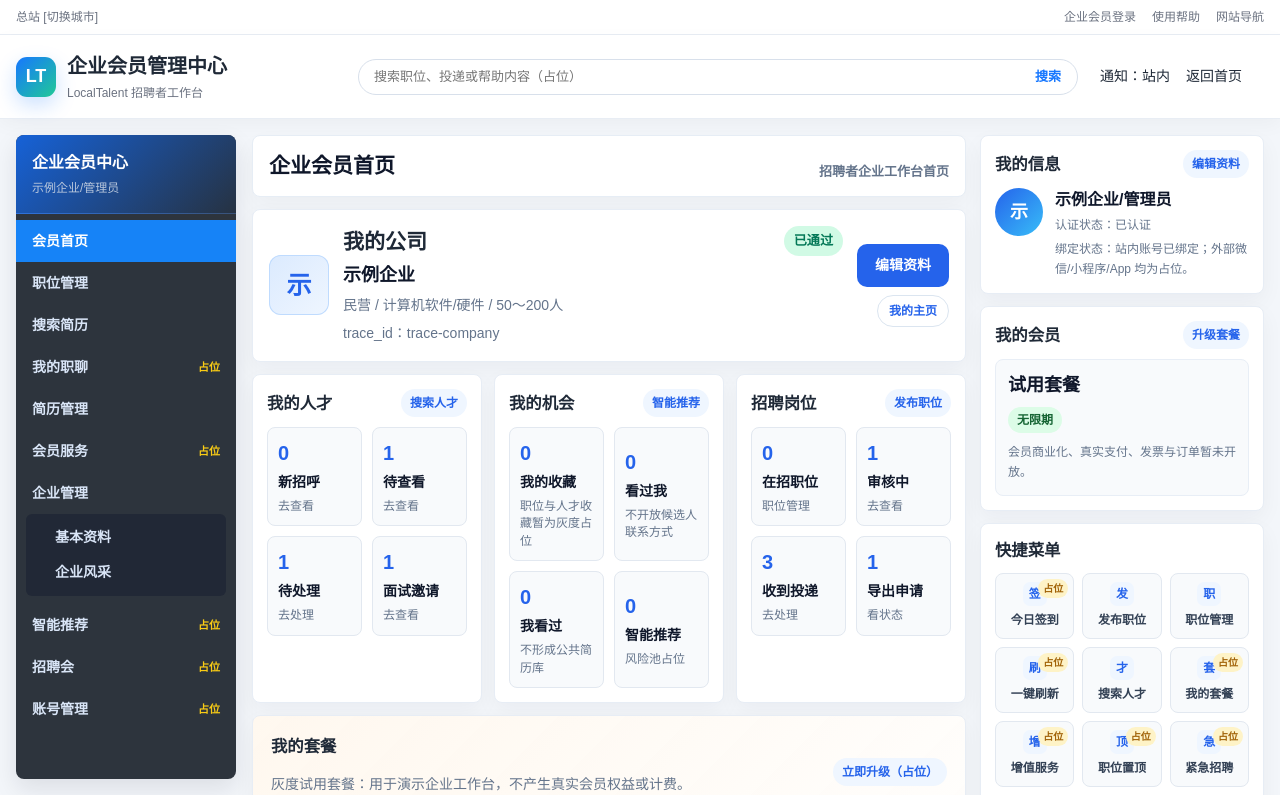
it: CompanyDashboard › renders company workbench modules without leaking sensitive fields
Expected: the heading "企业会员首页" is shown, top-left (269, 150), bottom-right (395, 182)
Click the button "职位管理". click: click(126, 283)
box: top-left (16, 262), bottom-right (236, 304)
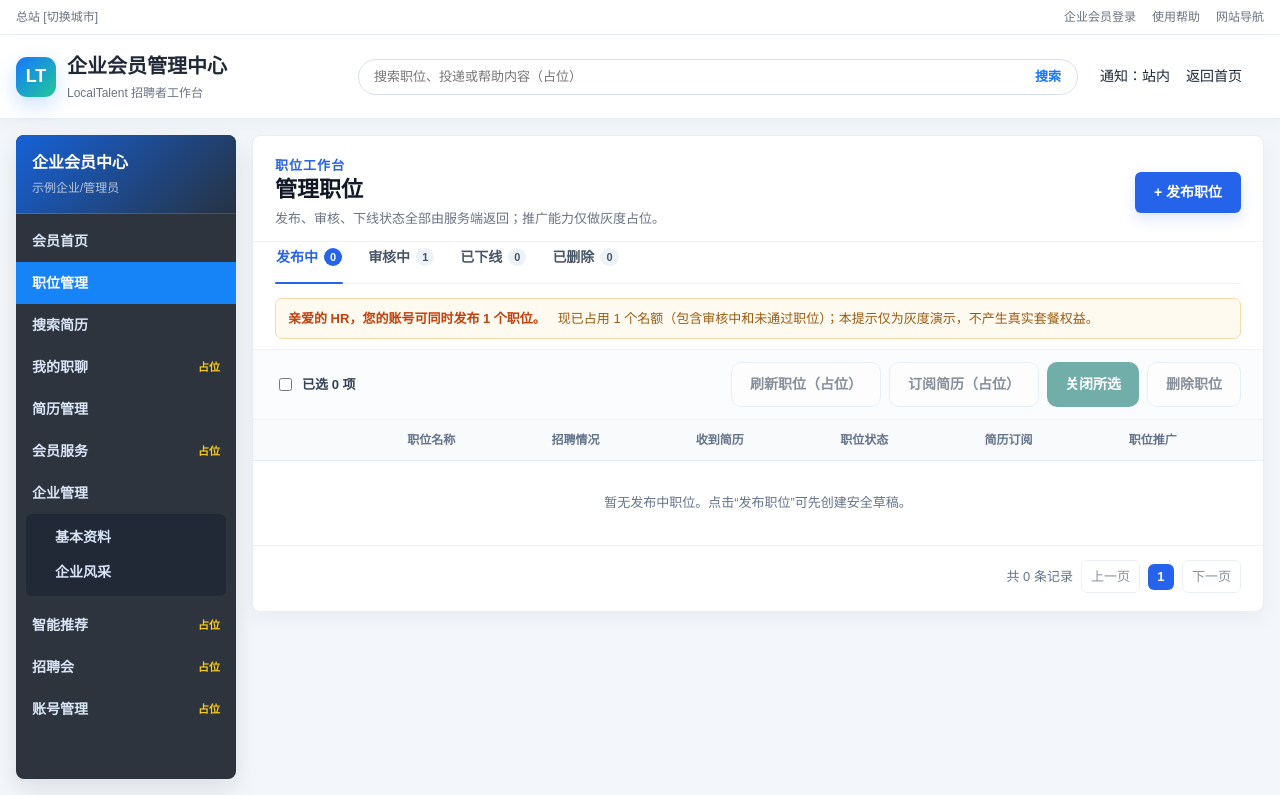
Expected: the text "职位工作台" is shown, top-left (275, 158), bottom-right (345, 173)
Click the button "基本资料". click: click(126, 538)
box: top-left (26, 520), bottom-right (226, 555)
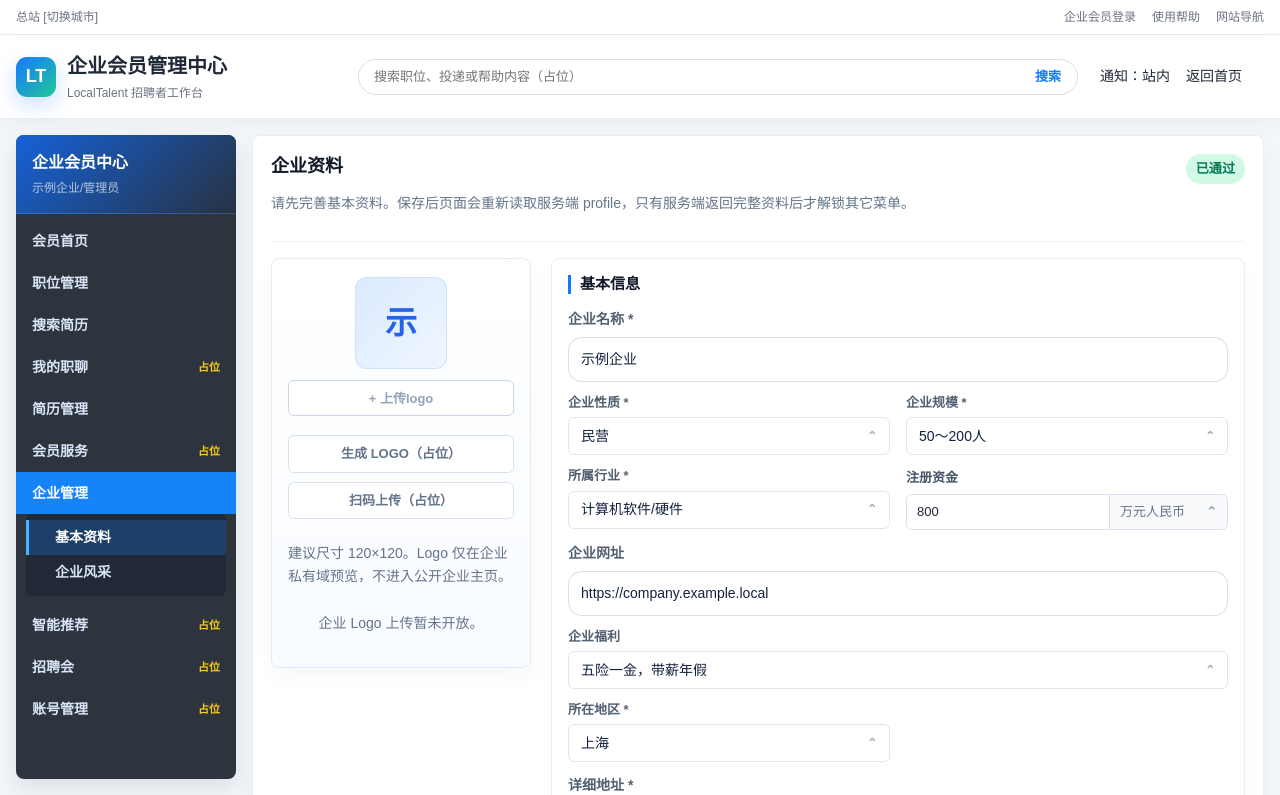
Expected: the heading "企业资料" is shown, top-left (271, 156), bottom-right (343, 176)
Click the button "简历管理". click: click(126, 409)
box: top-left (16, 388), bottom-right (236, 430)
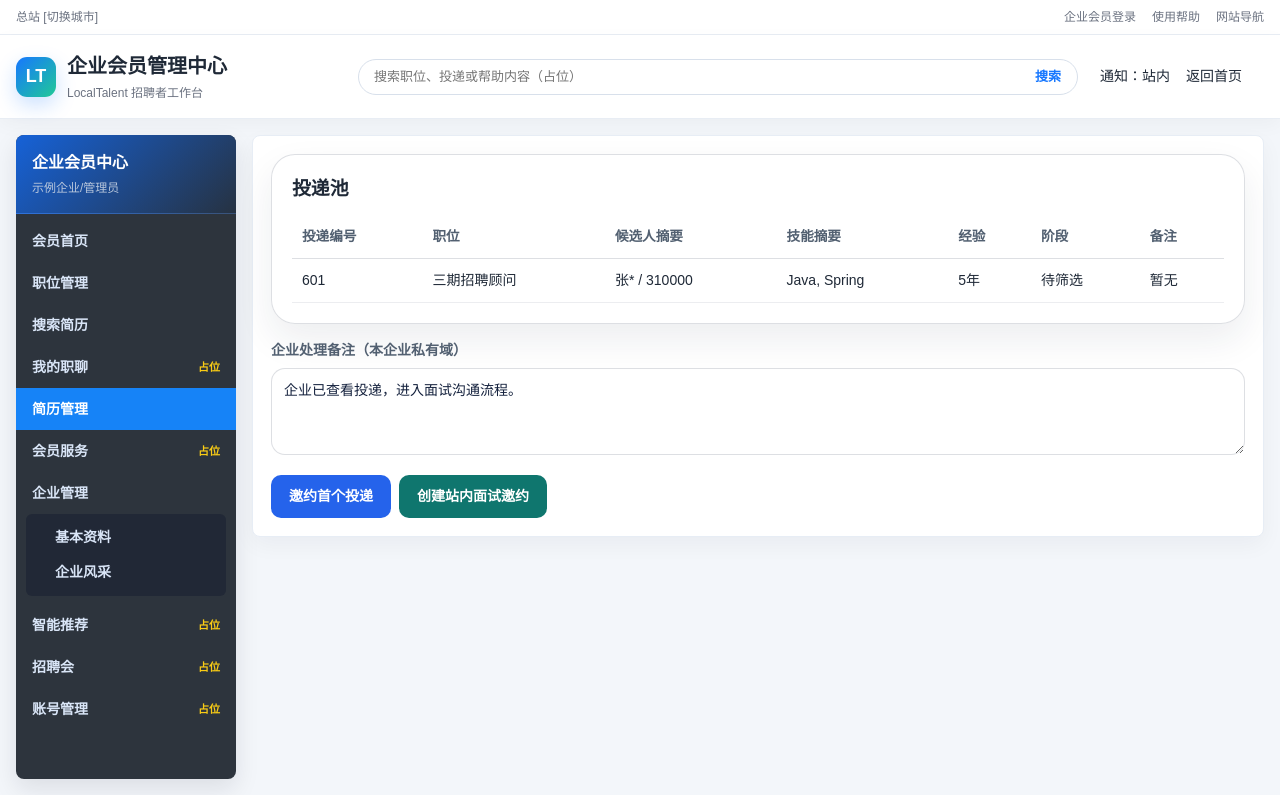
Expected: the heading "投递池" is shown, top-left (292, 178), bottom-right (349, 199)
Expected: the button "创建站内面试邀约" is shown, top-left (399, 475), bottom-right (547, 518)
Expected: the text "张* / 310000" is shown, top-left (605, 258), bottom-right (777, 302)
